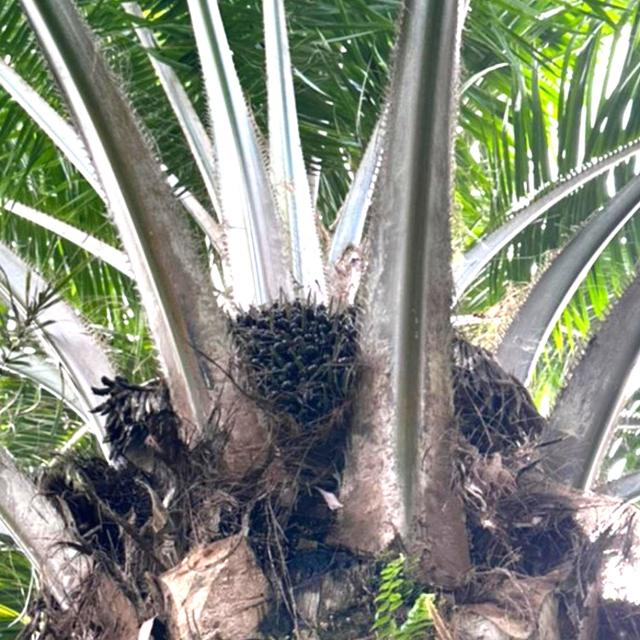unripe: (211, 280, 376, 467)
